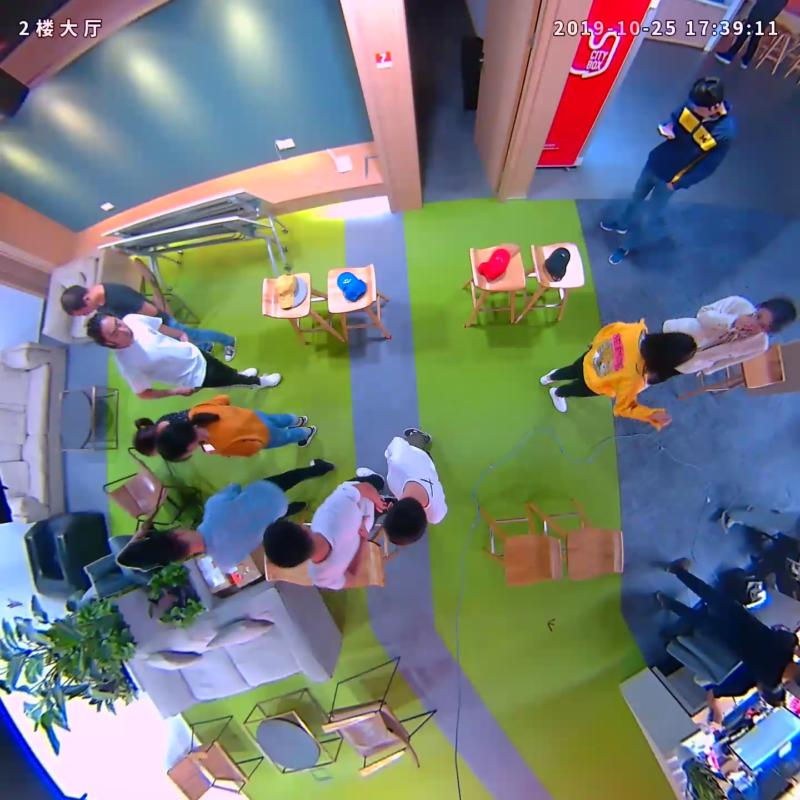head: (261, 519, 315, 569), (383, 495, 427, 548), (748, 297, 798, 334), (648, 332, 697, 368), (149, 526, 194, 565), (157, 419, 198, 460), (86, 313, 134, 347), (689, 75, 724, 119), (60, 285, 95, 316), (132, 422, 158, 459)
